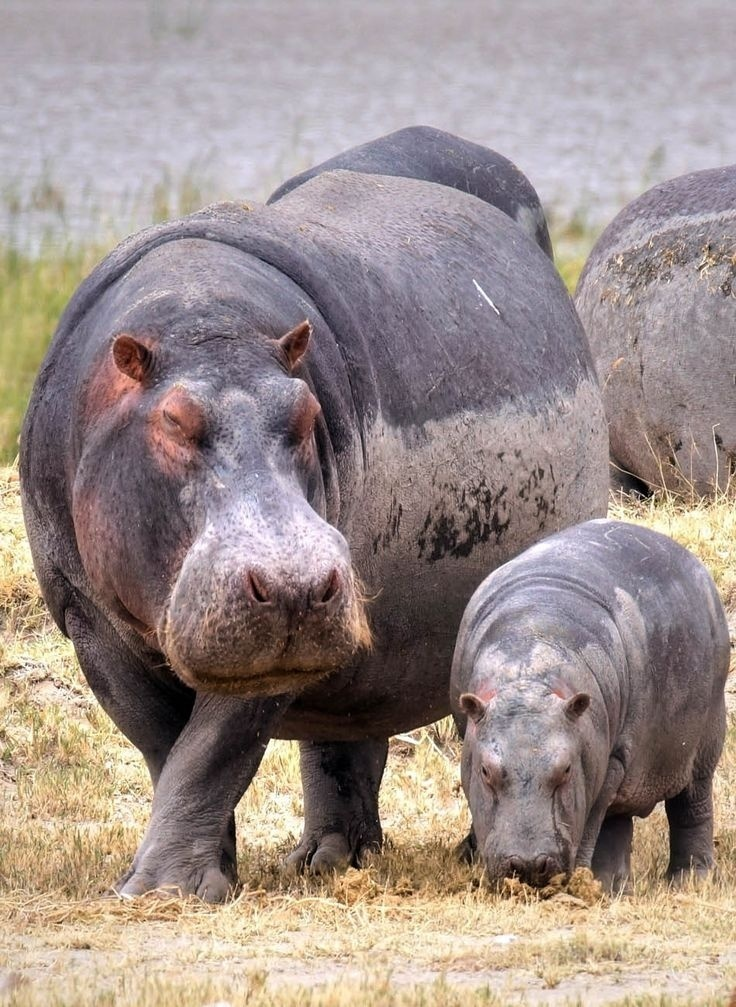hipopotamo: (11, 141, 651, 928), (425, 468, 736, 920)
